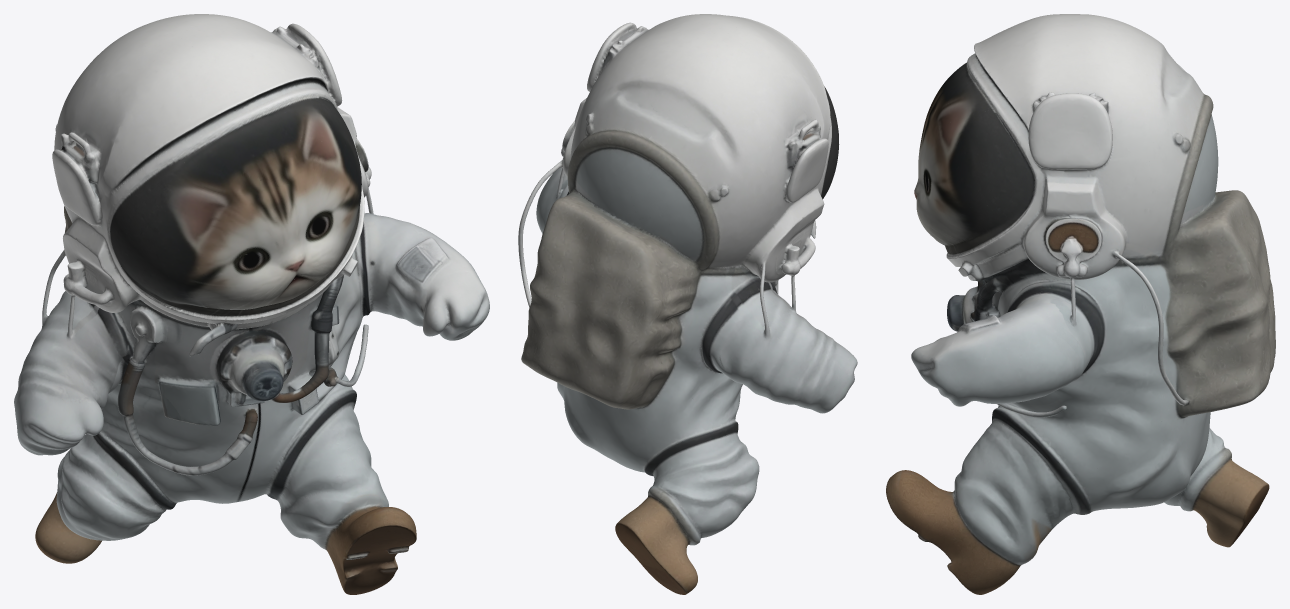
The model's file is cat_astronaut.glb.
The picture shows the model from 3 angles, left to right: view 1: azimuth 30°, elevation 25°; view 2: azimuth 150°, elevation 25°; view 3: azimuth 270°, elevation 25°; orthographic projection. The views are drawn at different scales.
Visible parts, largest first — view 1: mesh_node; view 2: mesh_node; view 3: mesh_node.
Boxes of the visible parts, left/top/right/bottom form: mesh_node: left=14, top=14, right=489, bottom=594; mesh_node: left=518, top=14, right=857, bottom=594; mesh_node: left=886, top=14, right=1275, bottom=594.
Bounding box in the file's own units: 1.35 × 1.9 × 1.24.
1 material, 1 textured.
